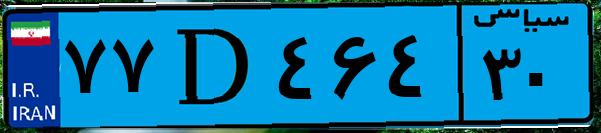0: (525, 38, 570, 115)
3: (475, 38, 525, 113)
4: (270, 28, 330, 110), (385, 28, 445, 110)
6: (330, 28, 385, 110)
7: (57, 26, 110, 100), (110, 28, 158, 98)
D: (158, 12, 270, 120)
